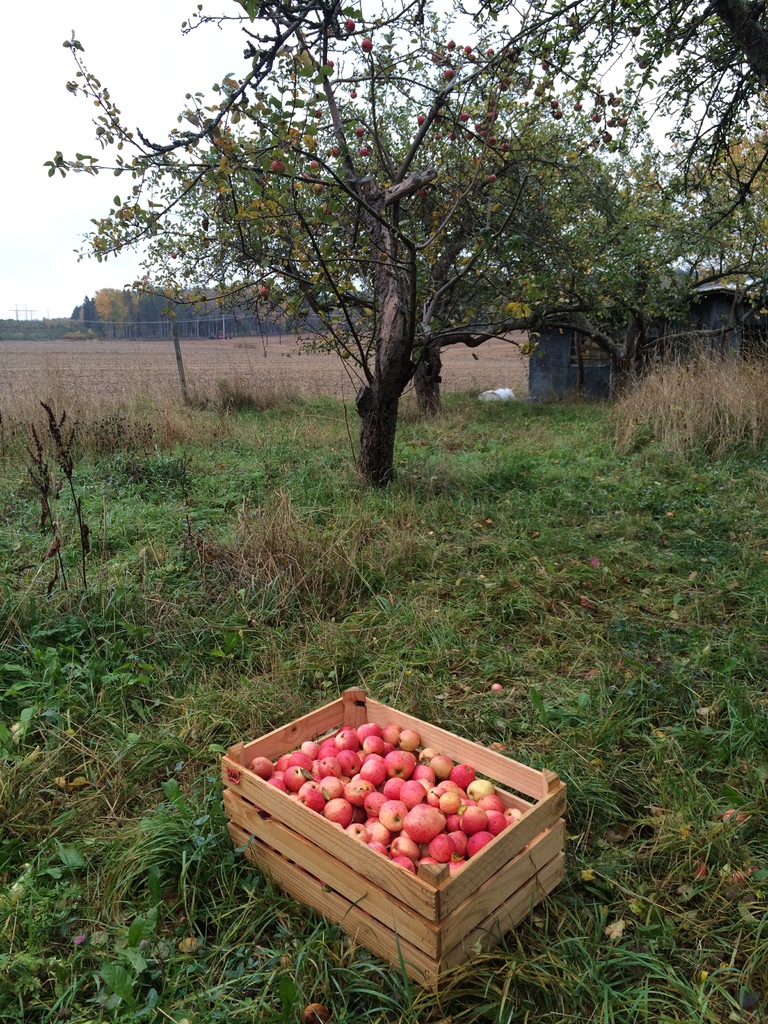Apple: (245, 723, 529, 872), (399, 800, 442, 841)
